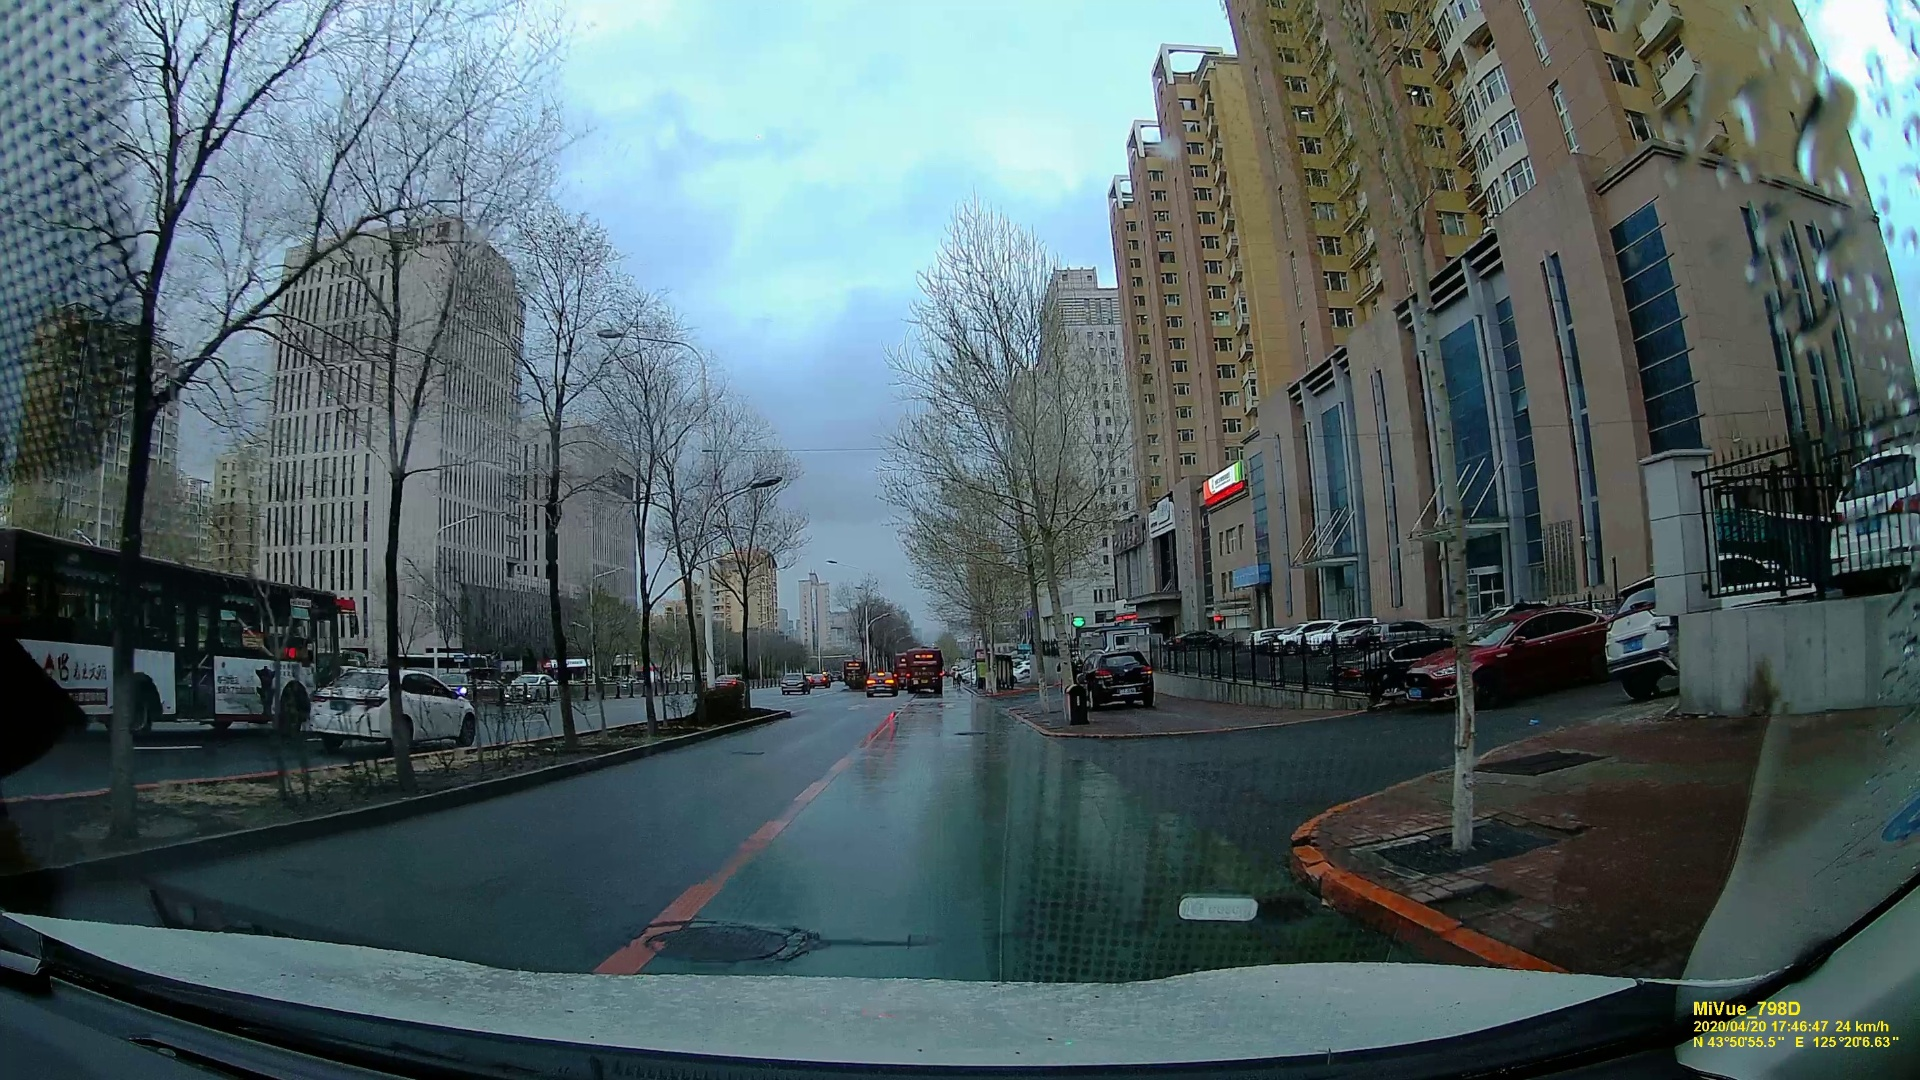bus: (1, 538, 340, 746), (906, 647, 942, 694), (844, 659, 862, 684)
vehicle: (302, 669, 472, 746), (1067, 651, 1154, 708), (866, 673, 897, 698), (777, 673, 808, 691)
